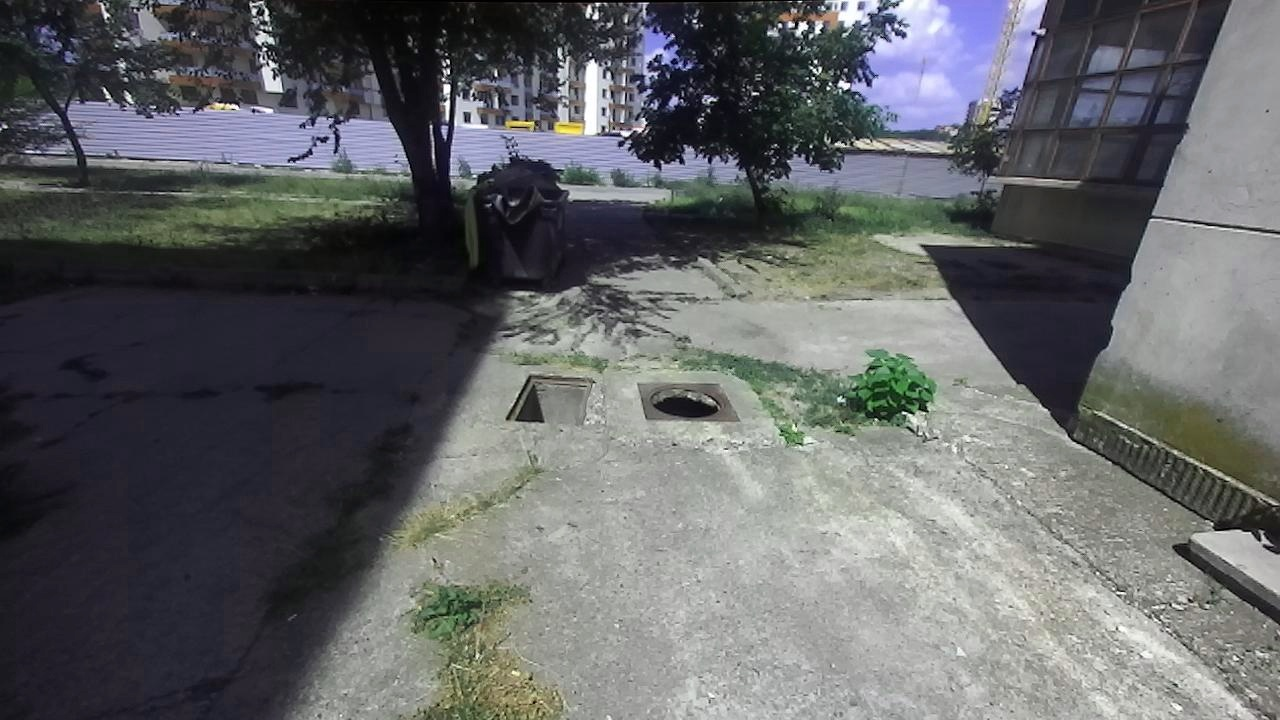drain: (502, 374, 593, 422), (643, 382, 727, 421)
